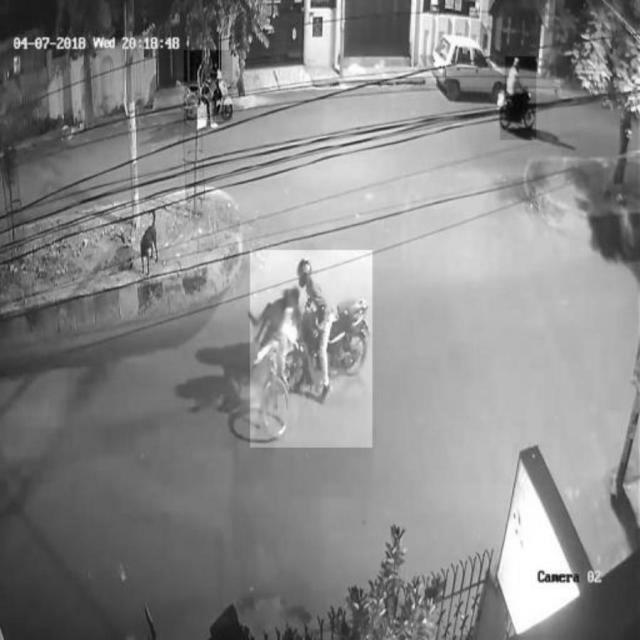accident: (250, 250, 372, 447)
vehicle: (428, 33, 505, 103), (184, 51, 232, 121), (501, 57, 537, 140)
